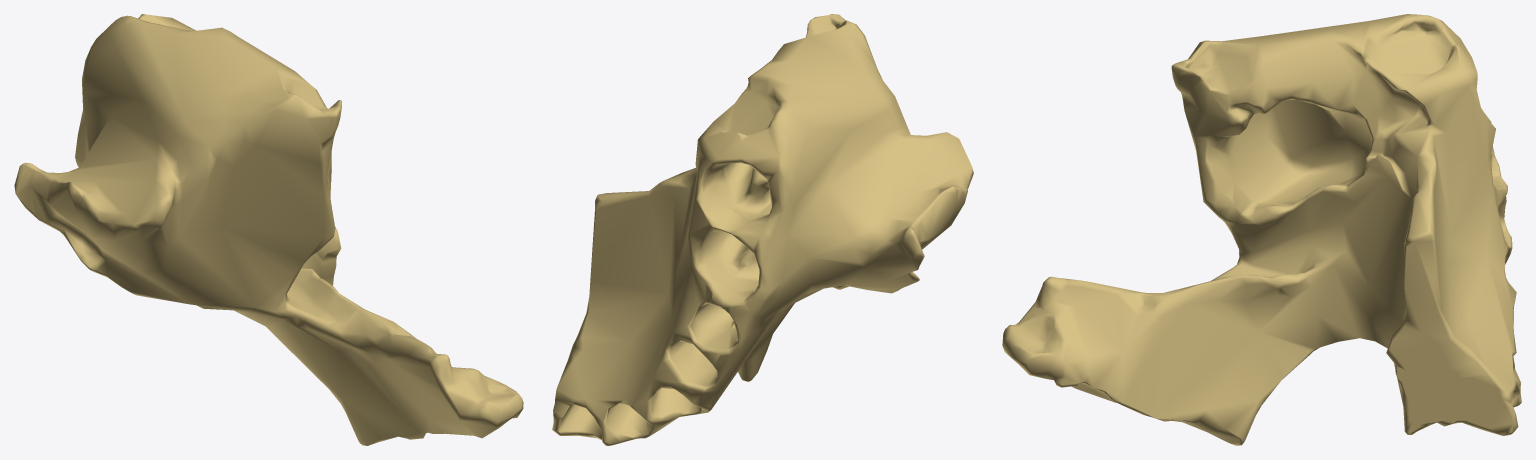
3 renders of one model, left to right at view 1: azimuth 30°, elevation 25°; view 2: azimuth 150°, elevation 25°; view 3: azimuth 270°, elevation 25°, orthographic. The views are drawn at different scales.
Visible parts, largest first — view 1: 右侧上颌骨; view 2: 右侧上颌骨; view 3: 右侧上颌骨.
Boxes of the visible parts, bbox=[...] form: 右侧上颌骨: bbox=[14, 14, 523, 445]; 右侧上颌骨: bbox=[552, 14, 973, 445]; 右侧上颌骨: bbox=[1002, 14, 1521, 445].
Bounding box in the file's own units: 0.0681 × 0.0793 × 0.0999.
